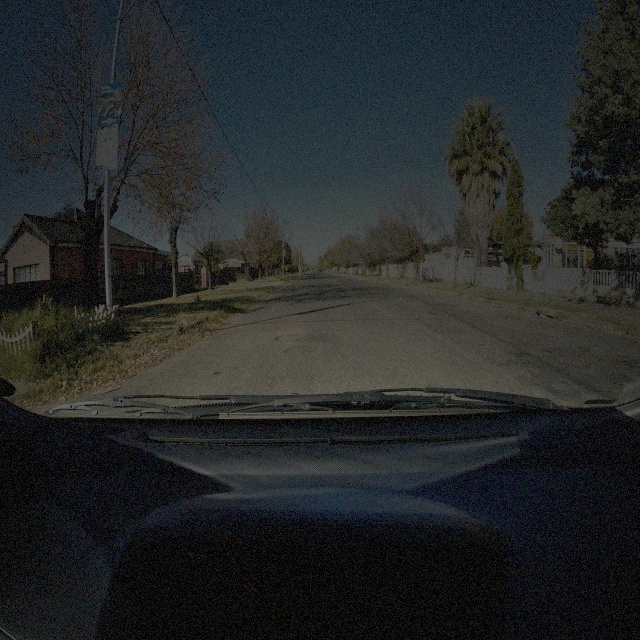pothole: (274, 333, 302, 345)
